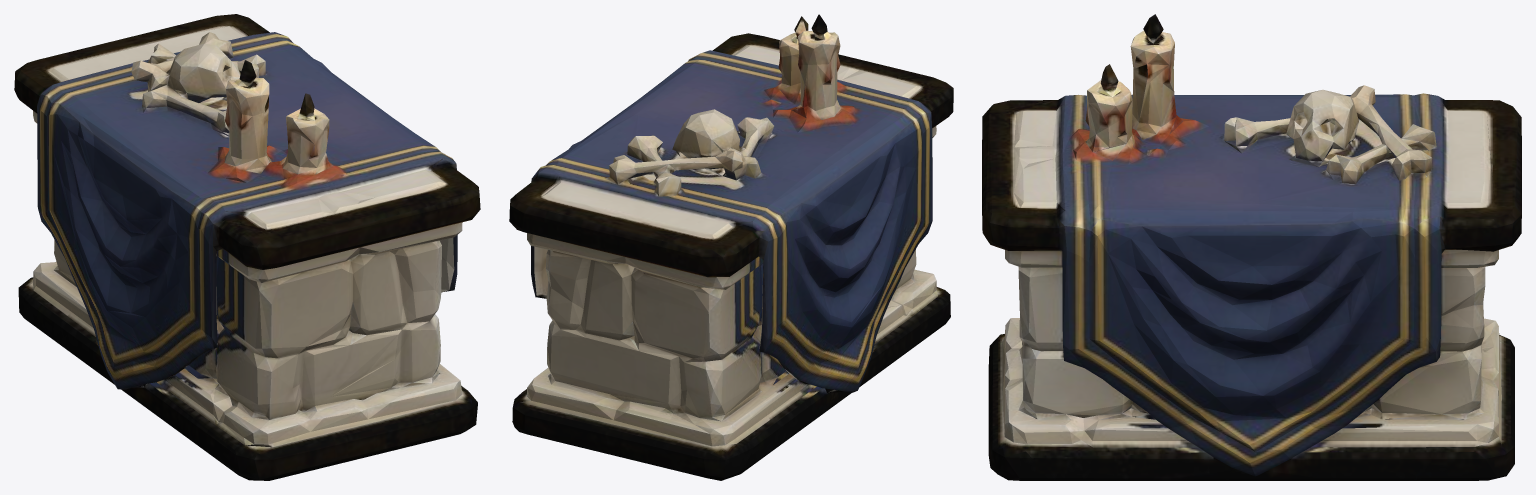
Rendered from altar_reliquary.glb.
The picture shows the model from 3 angles, left to right: view 1: azimuth 30°, elevation 25°; view 2: azimuth 150°, elevation 25°; view 3: azimuth 270°, elevation 25°; orthographic projection. The views are drawn at different scales.
Parts seen in each view (by area): view 1: tripo_node_0d6312ec-1e45-4709-8121-a662cb3e15ec.001; view 2: tripo_node_0d6312ec-1e45-4709-8121-a662cb3e15ec.001; view 3: tripo_node_0d6312ec-1e45-4709-8121-a662cb3e15ec.001.
Boxes of the visible parts, x1,y1,x2,y2 form: tripo_node_0d6312ec-1e45-4709-8121-a662cb3e15ec.001: [14, 14, 480, 480]; tripo_node_0d6312ec-1e45-4709-8121-a662cb3e15ec.001: [509, 14, 953, 480]; tripo_node_0d6312ec-1e45-4709-8121-a662cb3e15ec.001: [982, 14, 1521, 480].
Bounding box in the file's own units: 0.6174 × 0.7814 × 0.9992.
Materials: 1 (1 with a texture image).
